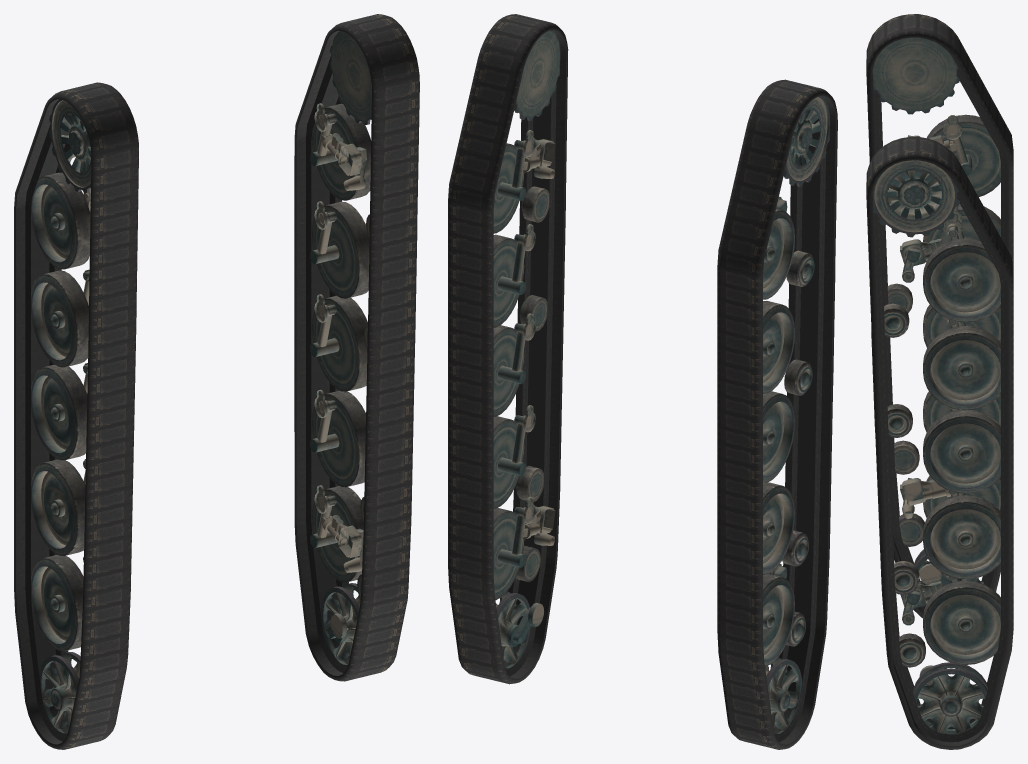
The model's file is Chassis.glb.
3 renders of one model, left to right at view 1: azimuth 30°, elevation 25°; view 2: azimuth 150°, elevation 25°; view 3: azimuth 270°, elevation 25°, orthographic. The views are drawn at different scales.
Visible parts, largest first — view 1: set_0_group_0, set_1_group_0, set_2_group_0, set_3_group_0; view 2: set_1_group_0, set_0_group_0, set_3_group_0, set_2_group_0; view 3: set_3_group_0, set_0_group_0, set_2_group_0, set_1_group_0.
Part boxes in pixels (box(x1,y1,x2,y2)): set_0_group_0: box(294, 14, 419, 681); set_1_group_0: box(14, 82, 138, 749); set_2_group_0: box(31, 99, 91, 733); set_3_group_0: box(310, 31, 371, 664); set_1_group_0: box(717, 79, 837, 749); set_0_group_0: box(448, 14, 568, 684); set_3_group_0: box(493, 30, 560, 668); set_2_group_0: box(763, 96, 829, 733); set_3_group_0: box(872, 160, 1000, 734); set_0_group_0: box(866, 136, 1013, 749); set_2_group_0: box(872, 37, 1000, 586); set_1_group_0: box(866, 14, 1013, 618).
Size of the model in its own units: 2.51 by 4.88 by 1.09.
Materials: 4 (4 with a texture image).
